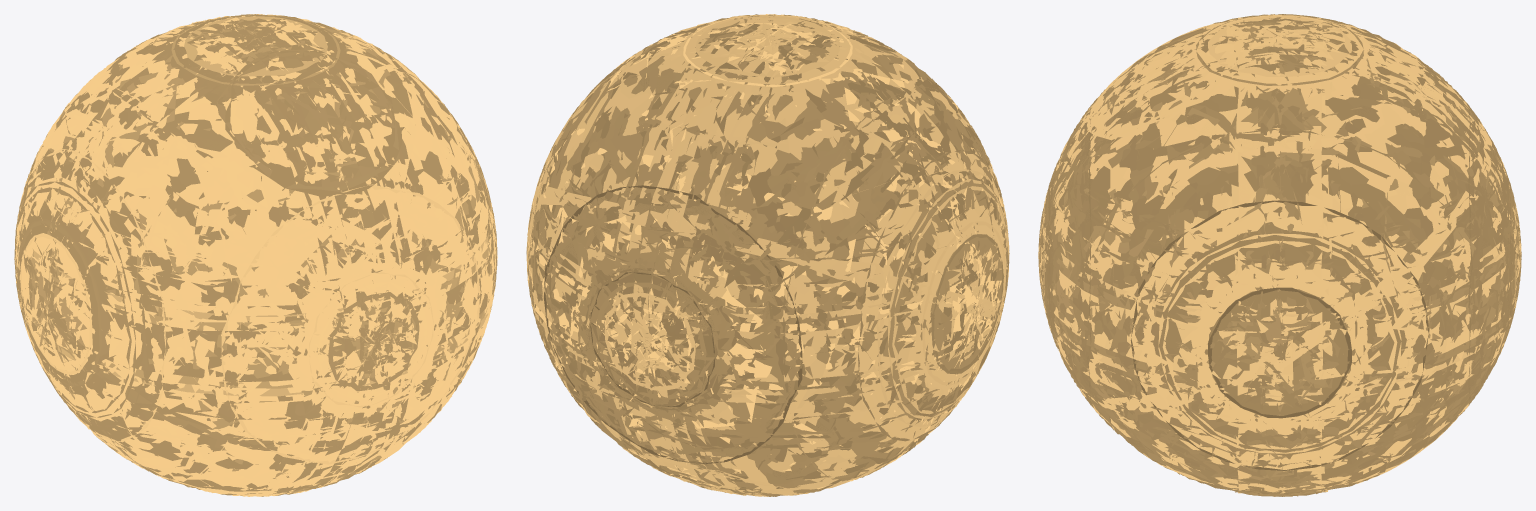
The model's file is sys-md-mechanical.glb.
3 views of the same model, side by side, from view 1: azimuth 30°, elevation 25°; view 2: azimuth 150°, elevation 25°; view 3: azimuth 270°, elevation 25° (orthographic).
Visible parts, largest first — view 1: TS-md-mechanical-1662, TS-md-mechanical-1668, TS-md-mechanical-1669, TS-md-mechanical-1656, TS-md-mechanical-1659, TS-md-mechanical-1543, TS-md-mechanical-1542; view 2: TS-md-mechanical-1668, TS-md-mechanical-1662, TS-md-mechanical-1669, TS-md-mechanical-1656, TS-md-mechanical-1659, TS-md-mechanical-1543, TS-md-mechanical-1542; view 3: TS-md-mechanical-1662, TS-md-mechanical-1668, TS-md-mechanical-1669, TS-md-mechanical-1656, TS-md-mechanical-1659, TS-md-mechanical-1543, TS-md-mechanical-1542.
Part boxes in pixels (box(x1,y1,x2,y2)): TS-md-mechanical-1662: box(14, 14, 497, 496); TS-md-mechanical-1668: box(14, 14, 497, 496); TS-md-mechanical-1669: box(16, 14, 496, 496); TS-md-mechanical-1656: box(14, 14, 496, 494); TS-md-mechanical-1659: box(20, 82, 494, 464); TS-md-mechanical-1543: box(18, 16, 493, 396); TS-md-mechanical-1542: box(17, 14, 494, 388); TS-md-mechanical-1668: box(526, 14, 1009, 496); TS-md-mechanical-1662: box(526, 14, 1009, 496); TS-md-mechanical-1669: box(528, 14, 1009, 496); TS-md-mechanical-1656: box(527, 14, 1007, 493); TS-md-mechanical-1659: box(529, 89, 1003, 464); TS-md-mechanical-1543: box(530, 16, 1004, 395); TS-md-mechanical-1542: box(530, 14, 1005, 390); TS-md-mechanical-1662: box(1038, 14, 1521, 493); TS-md-mechanical-1668: box(1038, 14, 1521, 496); TS-md-mechanical-1669: box(1038, 14, 1521, 496); TS-md-mechanical-1656: box(1038, 14, 1521, 496); TS-md-mechanical-1659: box(1047, 105, 1512, 470); TS-md-mechanical-1543: box(1043, 16, 1516, 396); TS-md-mechanical-1542: box(1041, 14, 1518, 388).
Size of what is drawn, in the model's own units: 2 by 2 by 2.
